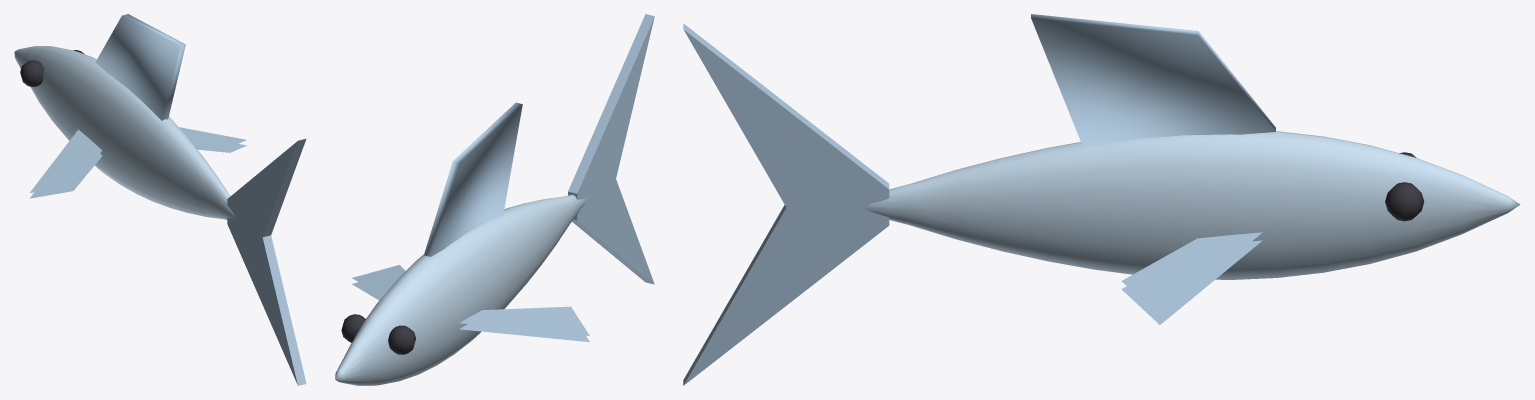
The model's file is fish_silver_blue.glb.
3 views of the same model, side by side, from view 1: azimuth 30°, elevation 25°; view 2: azimuth 150°, elevation 25°; view 3: azimuth 270°, elevation 25° (orthographic). The views are drawn at different scales.
Parts seen in each view (by area): view 1: Fish_Body, Fish_Fins, Fish_TailFin, Fish_Eyes; view 2: Fish_Body, Fish_Fins, Fish_TailFin, Fish_Eyes; view 3: Fish_Body, Fish_Fins, Fish_TailFin, Fish_Eyes.
Part boxes in pixels (bbox=[...]): Fish_Body: bbox=[14, 46, 235, 219]; Fish_Fins: bbox=[30, 14, 246, 198]; Fish_TailFin: bbox=[227, 139, 306, 385]; Fish_Eyes: bbox=[20, 50, 83, 86]; Fish_Body: bbox=[335, 195, 586, 385]; Fish_Fins: bbox=[352, 102, 589, 342]; Fish_TailFin: bbox=[568, 14, 654, 284]; Fish_Eyes: bbox=[341, 314, 415, 354]; Fish_Body: bbox=[864, 131, 1520, 279]; Fish_Fins: bbox=[1031, 14, 1275, 324]; Fish_TailFin: bbox=[683, 23, 889, 385]; Fish_Eyes: bbox=[1385, 152, 1424, 221].
Size of the model in its own units: 0.4092 by 0.4524 by 0.936.
